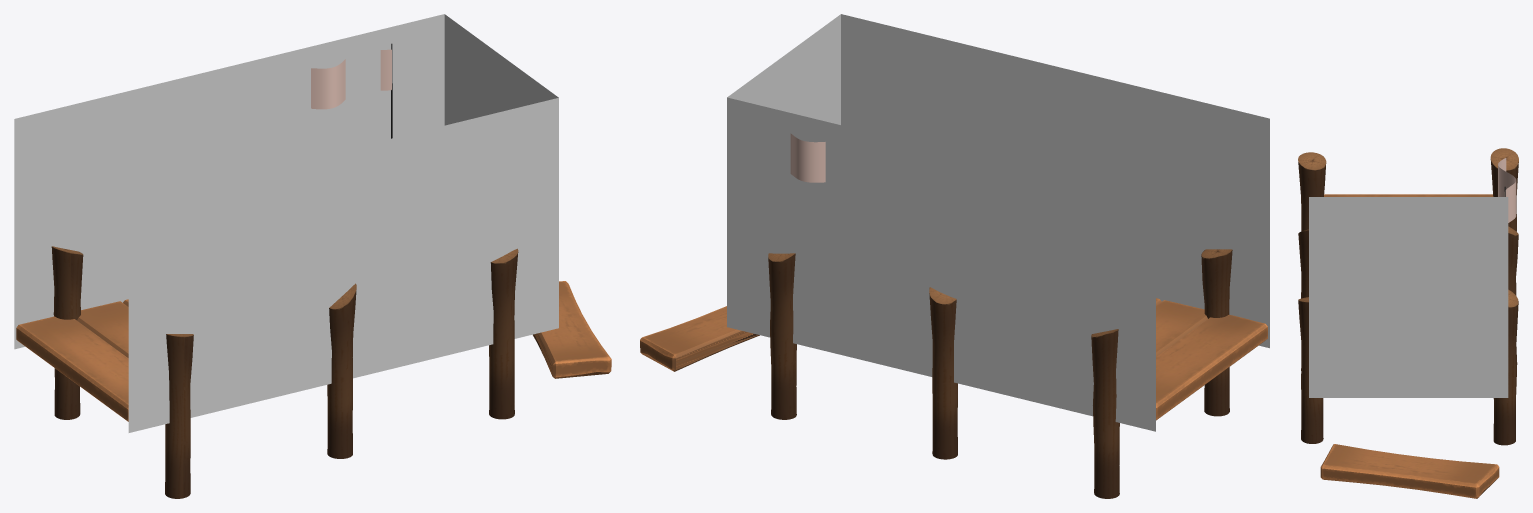
File: Wooden Dock.fbx
The picture shows the model from 3 angles, left to right: view 1: azimuth 30°, elevation 25°; view 2: azimuth 150°, elevation 25°; view 3: azimuth 270°, elevation 25°; orthographic projection. The views are drawn at different scales.
Parts seen in each view (by area): view 1: InvisibleWall, Cube.001, Cylinder.004, Cylinder.002, Cylinder.009, Cube.002, Cylinder.001, Plane; view 2: InvisibleWall, Cube.001, Cylinder.001, Cylinder.003, Cylinder.012, Cube.002, Cylinder.004, Plane; view 3: InvisibleWall, Cube.002, Cylinder.003, Cylinder.002, Cylinder.004, Cylinder.001, Plane, Cylinder.012, Cylinder.009, Cube.001.
Boxes of the visible parts, x1,y1,x2,y2 form: InvisibleWall: (14, 14, 558, 432); Cube.001: (16, 299, 128, 421); Cylinder.004: (165, 334, 193, 498); Cylinder.002: (489, 248, 518, 419); Cylinder.009: (327, 283, 356, 458); Cube.002: (533, 281, 611, 378); Cylinder.001: (51, 246, 83, 419); Plane: (311, 49, 391, 109); InvisibleWall: (727, 14, 1269, 431); Cube.001: (1156, 298, 1267, 420); Cylinder.001: (1091, 329, 1119, 498); Cylinder.003: (768, 253, 796, 419); Cylinder.012: (929, 287, 957, 459); Cube.002: (640, 306, 759, 371); Cylinder.004: (1201, 249, 1232, 416); Plane: (790, 133, 825, 182); InvisibleWall: (1309, 197, 1508, 397); Cube.002: (1320, 444, 1499, 498); Cylinder.003: (1493, 289, 1518, 445); Cylinder.002: (1298, 297, 1323, 443); Cylinder.004: (1298, 152, 1326, 298); Cylinder.001: (1490, 148, 1518, 231); Plane: (1498, 158, 1516, 222); Cylinder.012: (1508, 226, 1518, 295); Cylinder.009: (1298, 229, 1308, 370); Cube.001: (1324, 194, 1493, 196).
Bounding box in the file's own units: 487 × 266 × 199.
3 materials, 1 textured.
